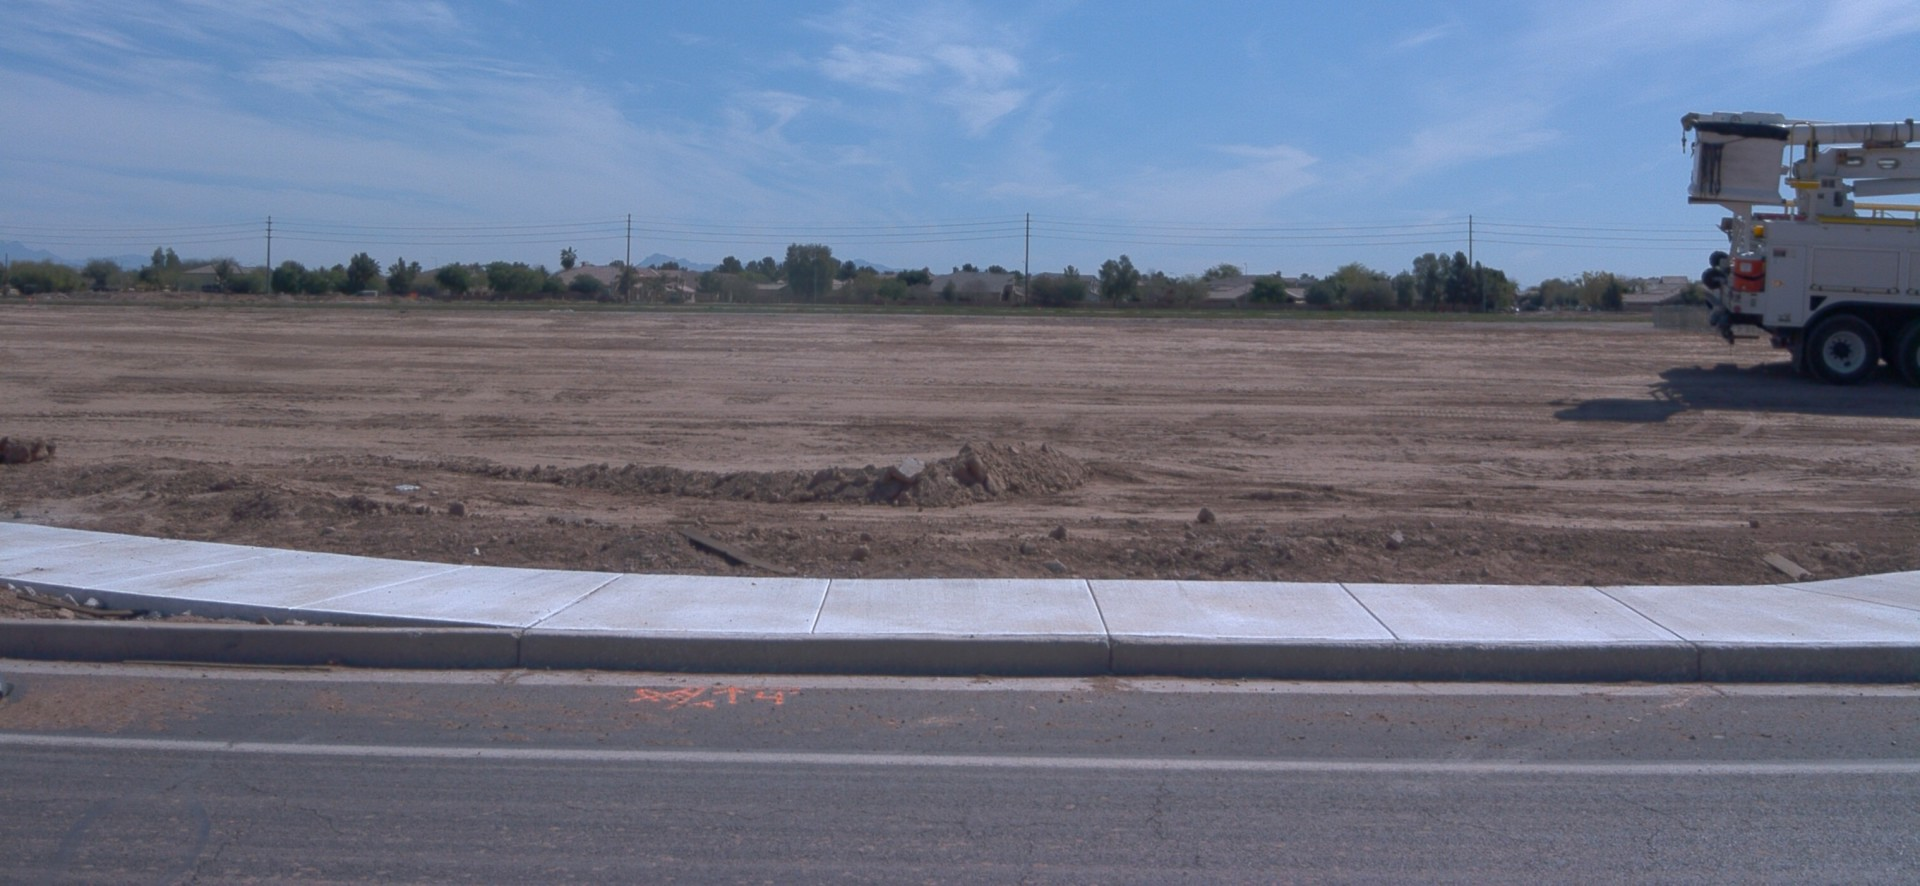TYPE_VEHICLE: (1675, 107, 1920, 387)
